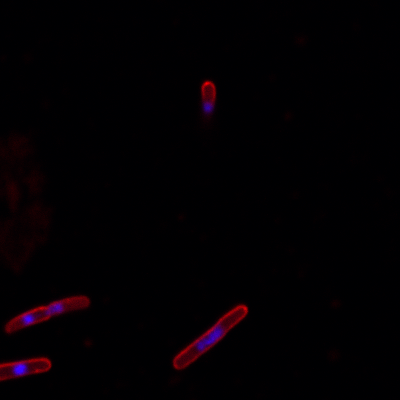Nalidixate: (170, 303, 250, 371)
Oblique: (3, 294, 91, 333), (199, 79, 218, 118)
